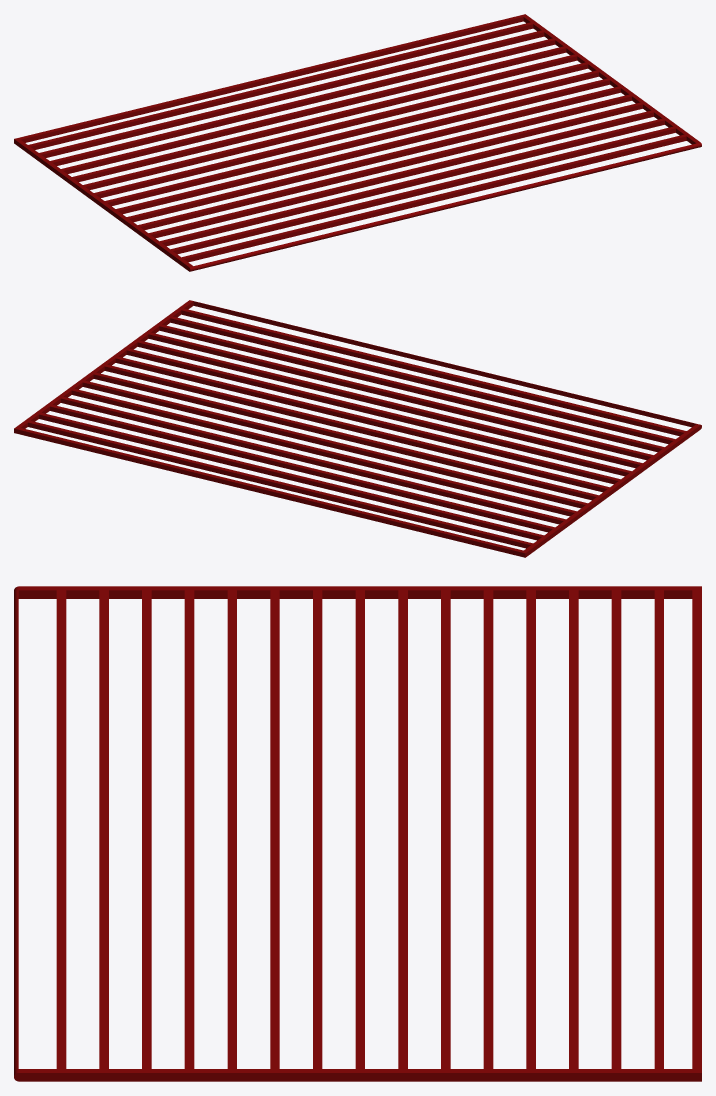
The model's file is original-3.obj.
The picture shows the model from 3 angles, top to bottom: view 1: azimuth 30°, elevation 25°; view 2: azimuth 150°, elevation 25°; view 3: azimuth 270°, elevation 25°; orthographic projection. The views are drawn at different scales.
Parts seen in each view (by area): view 1: Group3/mesh12/mesh12-geometry#mesh12-geometry; view 2: Group3/mesh12/mesh12-geometry#mesh12-geometry; view 3: Group3/mesh12/mesh12-geometry#mesh12-geometry.
Part boxes in pixels (box(x1,y1,x2,y2)): Group3/mesh12/mesh12-geometry#mesh12-geometry: box(14, 14, 701, 271); Group3/mesh12/mesh12-geometry#mesh12-geometry: box(14, 300, 701, 557); Group3/mesh12/mesh12-geometry#mesh12-geometry: box(14, 586, 701, 1081).
Bounding box in the file's own units: 0.8167 × 0.00678 × 0.4881.
